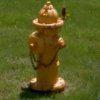Hydrant: (23, 2, 78, 100)
